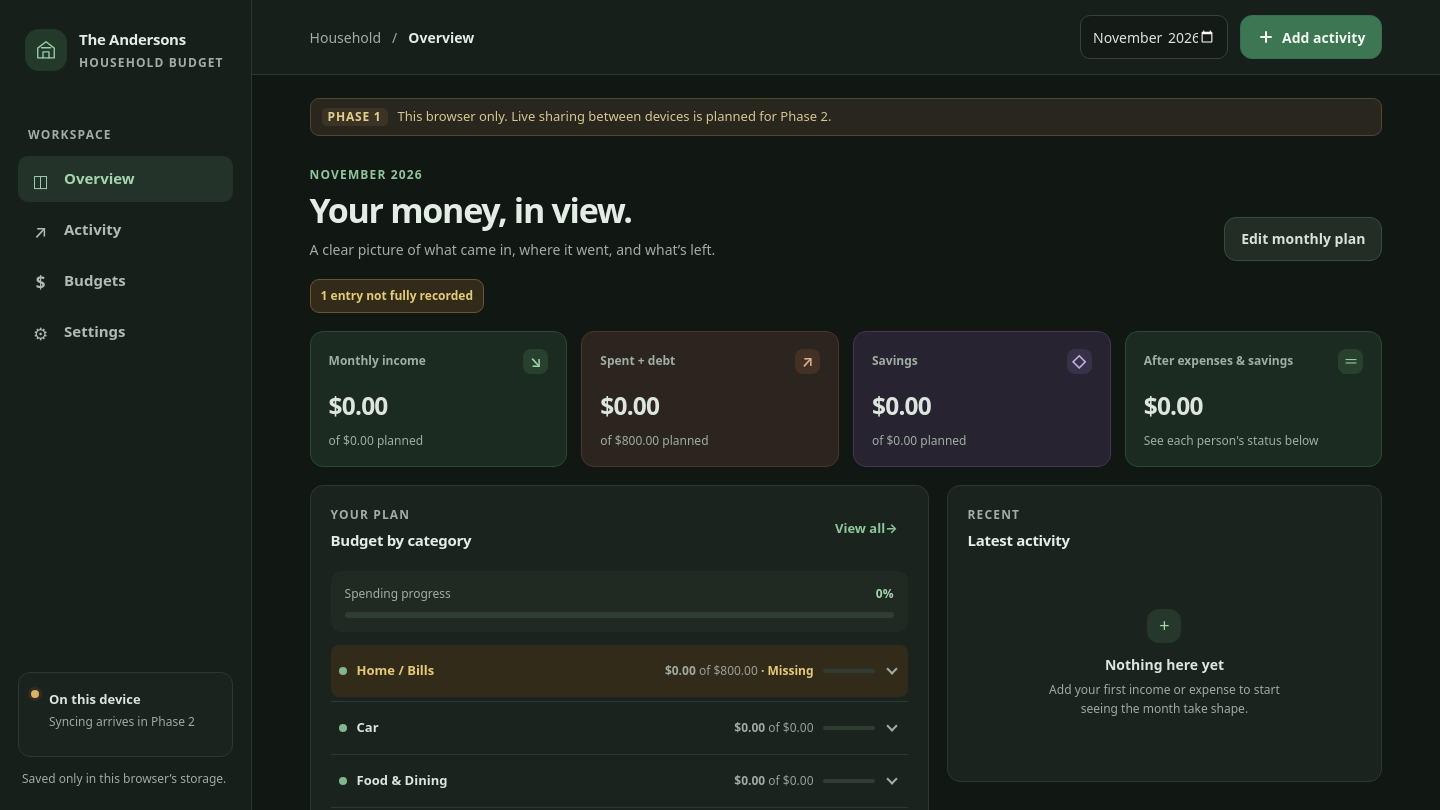
Test: budget app phase 1 › copies the previous month budget without copying activity or changing the template
Click the button "$ Budgets": (126, 280) [18,258,233,304]
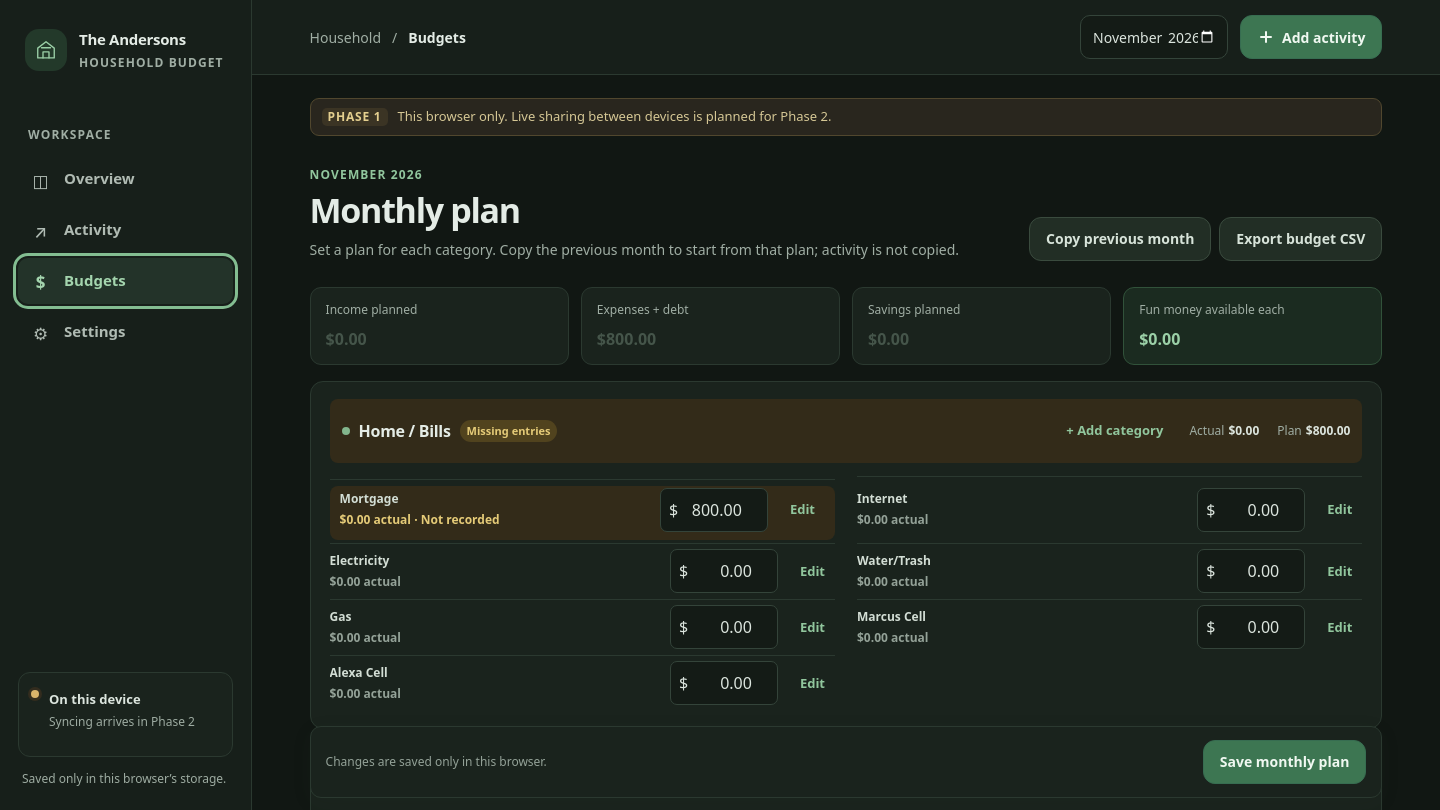
Now the number field named "Mortgage planned amount" holds "800", box [681,497,759,523]
Click the button "Copy previous month": (1120, 239) [1029,217,1211,261]
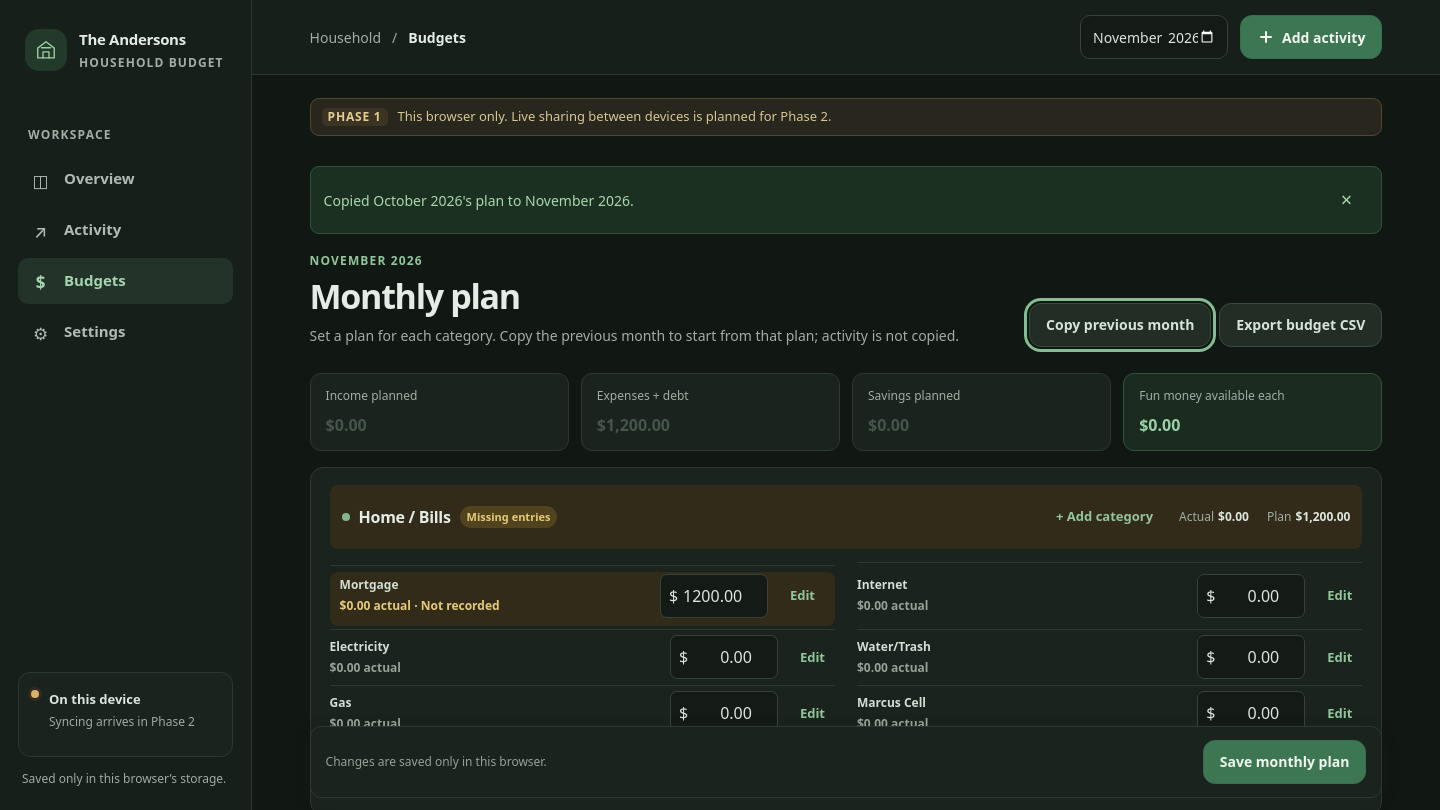
Now the number field named "Mortgage planned amount" holds "1200", box [681,583,759,609]
Now the text "Copied October 2026's plan to November 2026." is shown, box [324,190,634,210]
